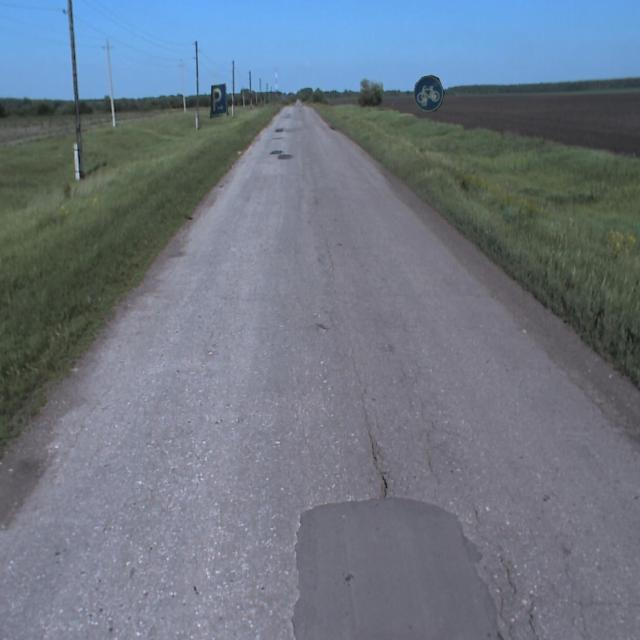road: (0, 108, 639, 639)
